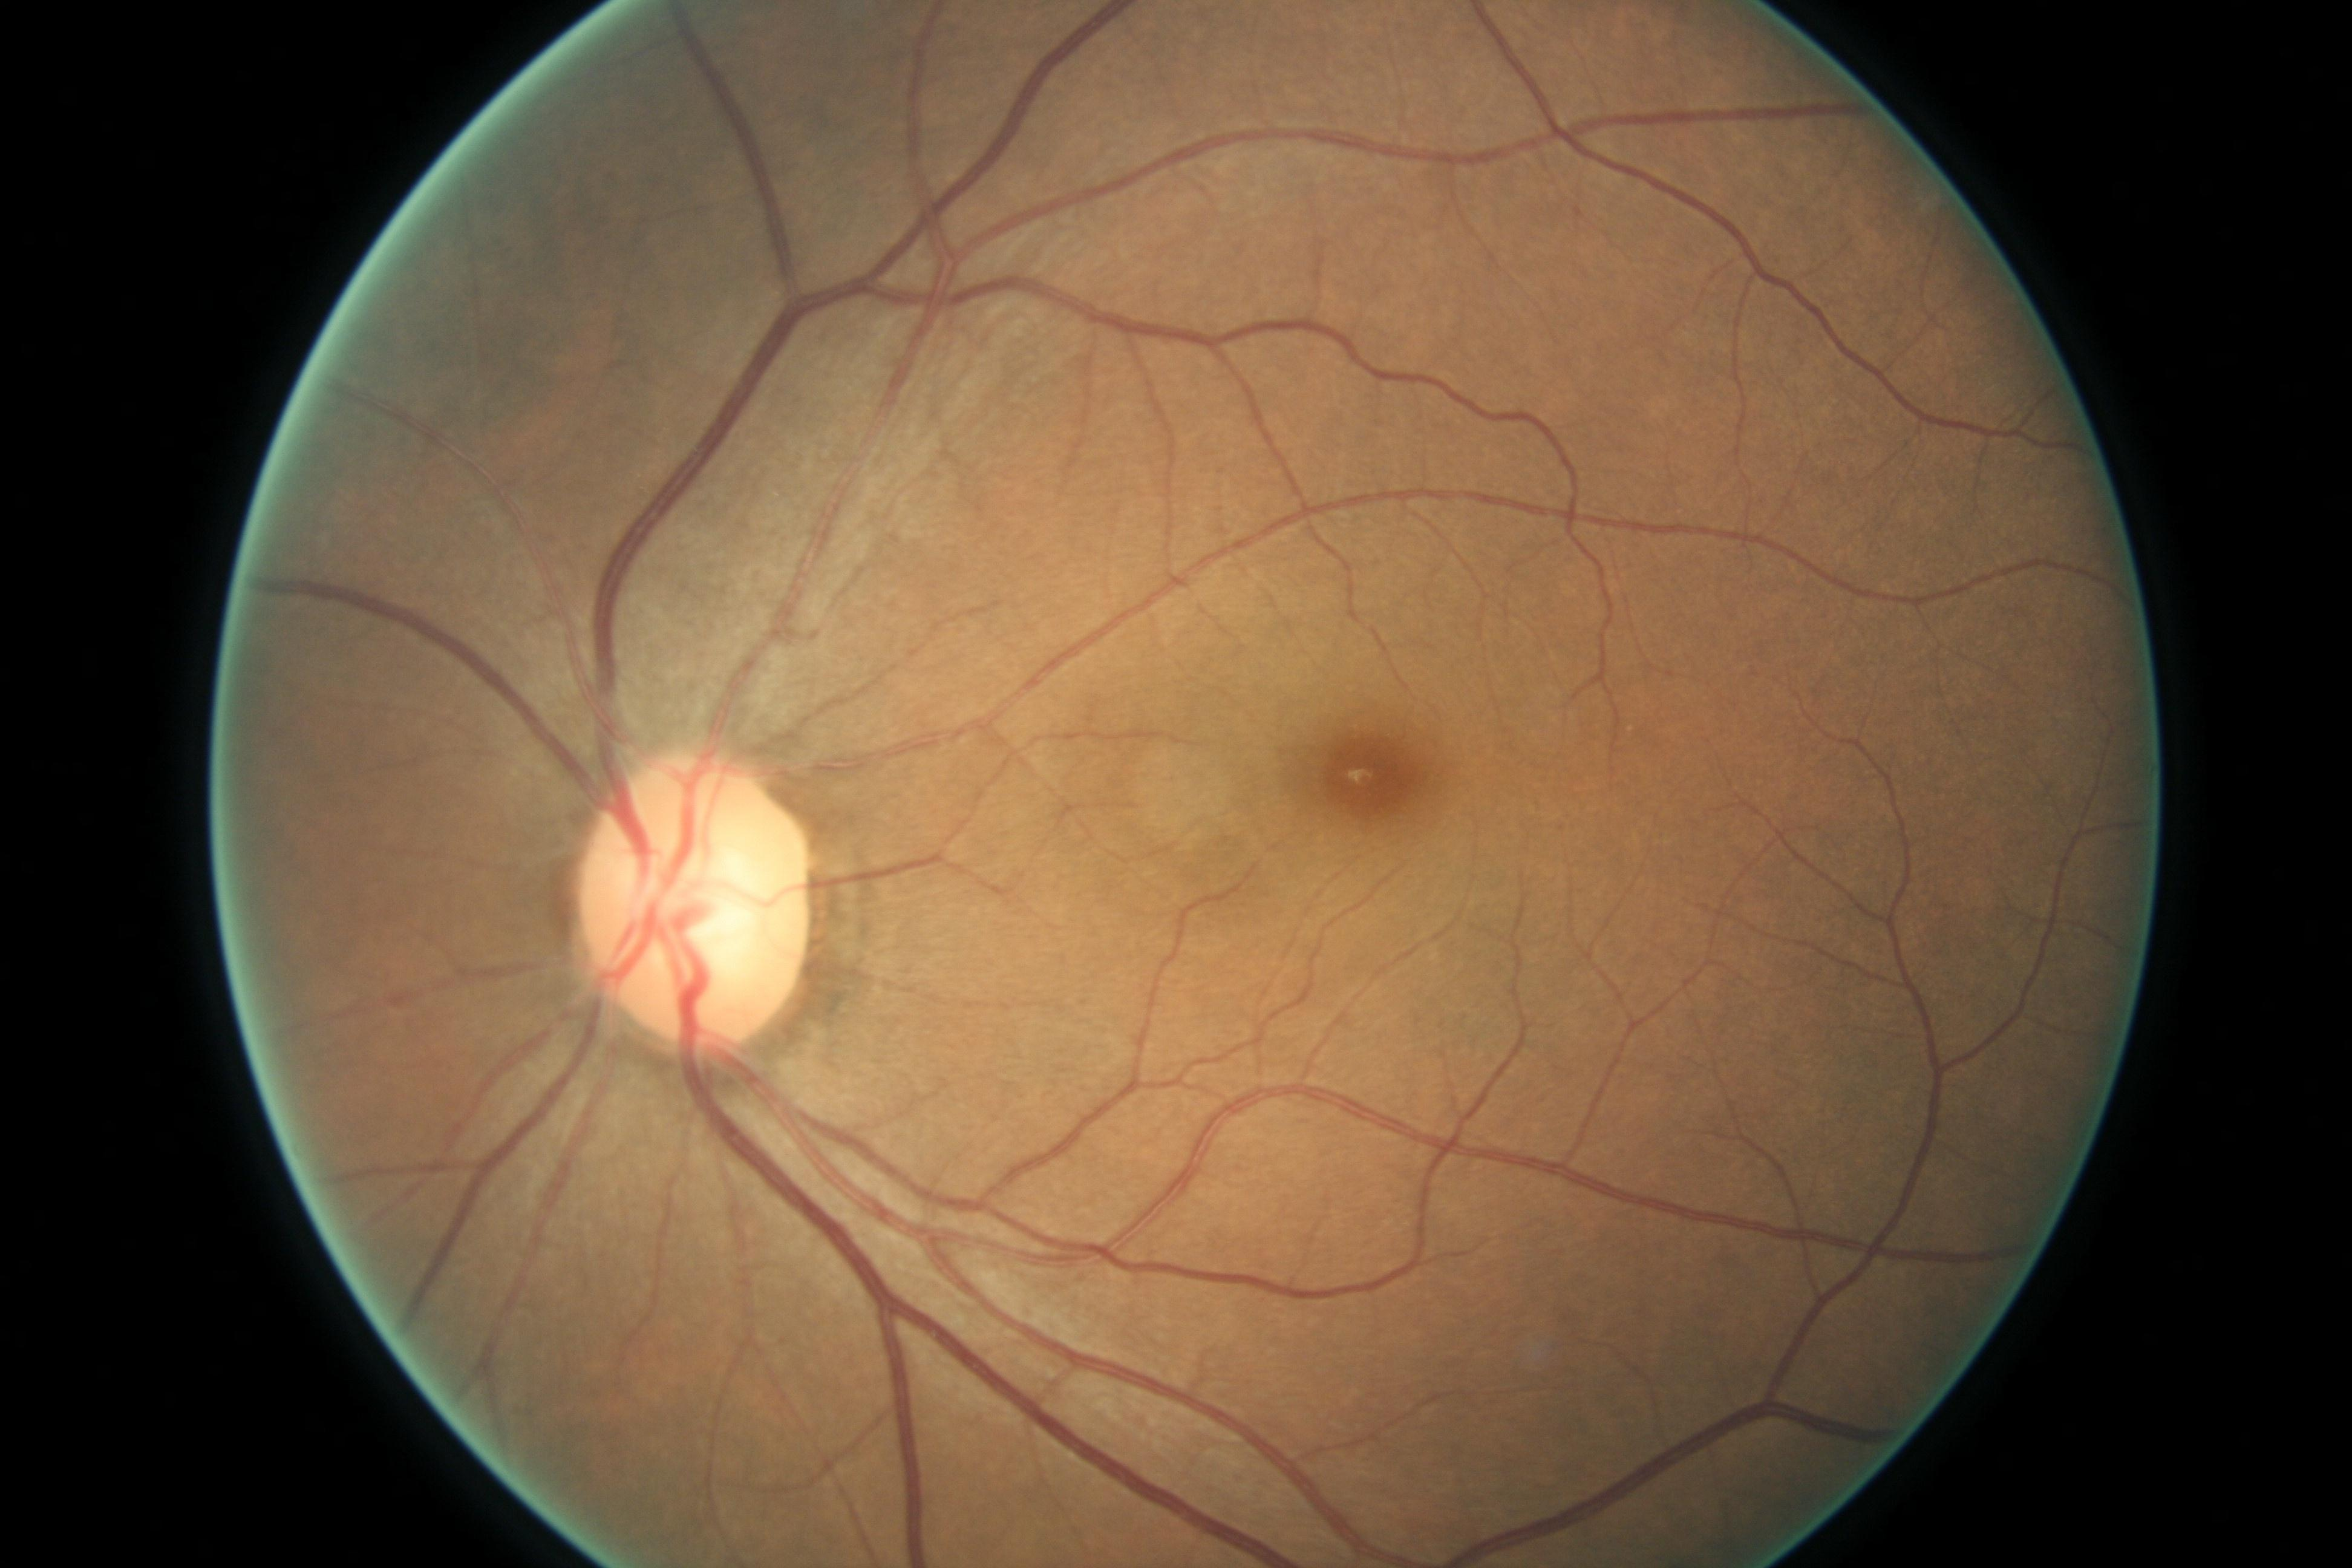Optic-nerve: (549, 740, 840, 1073)
macula: (1295, 705, 1461, 857)
